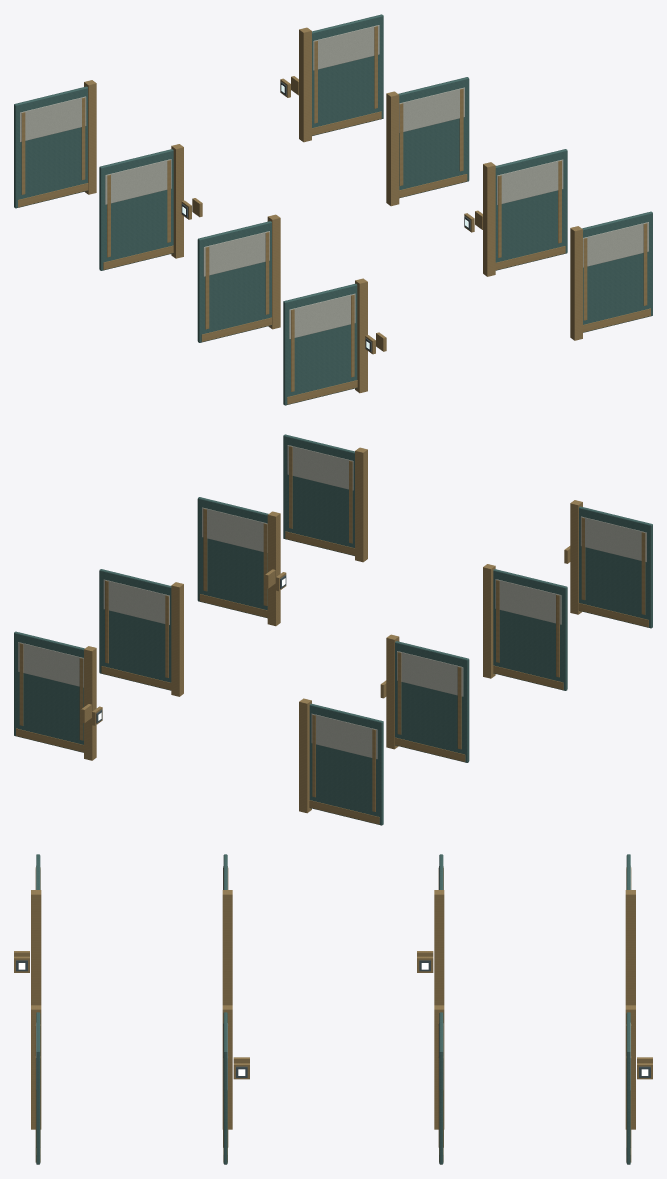
The model's file is G8_MEDICAL_BAY_r001_unbatched.glb.
3 views of the same model, one above another, from view 1: azimuth 30°, elevation 25°; view 2: azimuth 150°, elevation 25°; view 3: azimuth 270°, elevation 25° (orthographic). The views are drawn at different scales.
Visible parts, largest first — view 1: G8B_Surgery03_privacy_leaf_left, G8B_Surgery03_privacy_leaf_right, G8B_Surgery01_privacy_leaf_left, G8B_Surgery01_privacy_leaf_right, G8B_Surgery04_privacy_leaf_left, G8B_Surgery02_privacy_leaf_left, G8B_Surgery02_privacy_leaf_right, G8B_Surgery04_privacy_leaf_right, G8B_Surgery02_leaf_left_upper_field, G8B_Surgery03_leaf_right_upper_field, G8B_Surgery01_leaf_right_upper_field, G8B_Surgery03_leaf_left_upper_field (+20 smaller); view 2: G8B_Surgery01_privacy_leaf_right, G8B_Surgery01_privacy_leaf_left, G8B_Surgery03_privacy_leaf_right, G8B_Surgery03_privacy_leaf_left, G8B_Surgery02_privacy_leaf_right, G8B_Surgery04_privacy_leaf_right, G8B_Surgery04_privacy_leaf_left, G8B_Surgery02_privacy_leaf_left, G8B_Surgery01_leaf_left_upper_field, G8B_Surgery04_leaf_right_upper_field, G8B_Surgery01_leaf_right_upper_field, G8B_Surgery03_leaf_left_upper_field (+20 smaller); view 3: G8B_Surgery01_LeftReceiver, G8B_Surgery01_RightReceiver, G8B_Surgery03_LeftReceiver, G8B_Surgery03_RightReceiver, G8B_Surgery02_LeftReceiver, G8B_Surgery04_RightReceiver, G8B_Surgery02_RightReceiver, G8B_Surgery04_LeftReceiver, G8B_Surgery02_privacy_leaf_left, G8B_Surgery04_privacy_leaf_right, G8B_Surgery02_privacy_leaf_right, G8B_Surgery04_privacy_leaf_left.
Boxes of the visible parts, box(x1,y1,x2,y2) form: G8B_Surgery03_privacy_leaf_left: box(283, 283, 357, 405); G8B_Surgery03_privacy_leaf_right: box(197, 221, 271, 342); G8B_Surgery01_privacy_leaf_left: box(99, 149, 173, 270); G8B_Surgery01_privacy_leaf_right: box(14, 86, 87, 208); G8B_Surgery04_privacy_leaf_left: box(495, 149, 567, 270); G8B_Surgery02_privacy_leaf_left: box(312, 14, 383, 135); G8B_Surgery02_privacy_leaf_right: box(398, 77, 469, 198); G8B_Surgery04_privacy_leaf_right: box(582, 211, 652, 332); G8B_Surgery02_leaf_left_upper_field: box(313, 25, 379, 70); G8B_Surgery03_leaf_right_upper_field: box(203, 231, 269, 276); G8B_Surgery01_leaf_right_upper_field: box(20, 96, 86, 142); G8B_Surgery03_leaf_left_upper_field: box(289, 293, 355, 339); G8B_Surgery01_privacy_leaf_right: box(309, 703, 383, 825); G8B_Surgery01_privacy_leaf_left: box(395, 641, 469, 762); G8B_Surgery03_privacy_leaf_right: box(493, 569, 567, 690); G8B_Surgery03_privacy_leaf_left: box(579, 506, 652, 628); G8B_Surgery02_privacy_leaf_right: box(99, 569, 171, 690); G8B_Surgery04_privacy_leaf_right: box(283, 434, 354, 555); G8B_Surgery04_privacy_leaf_left: box(197, 497, 268, 618); G8B_Surgery02_privacy_leaf_left: box(14, 631, 84, 752); G8B_Surgery01_leaf_left_upper_field: box(397, 651, 463, 696); G8B_Surgery04_leaf_right_upper_field: box(287, 445, 353, 490); G8B_Surgery01_leaf_right_upper_field: box(311, 713, 377, 759); G8B_Surgery03_leaf_left_upper_field: box(580, 516, 646, 562); G8B_Surgery01_LeftReceiver: box(434, 890, 444, 1005); G8B_Surgery01_RightReceiver: box(625, 890, 635, 1005); G8B_Surgery03_LeftReceiver: box(31, 890, 41, 1005); G8B_Surgery03_RightReceiver: box(222, 890, 232, 1005); G8B_Surgery02_LeftReceiver: box(625, 1005, 635, 1129); G8B_Surgery04_RightReceiver: box(31, 1005, 41, 1129); G8B_Surgery02_RightReceiver: box(434, 1005, 444, 1129); G8B_Surgery04_LeftReceiver: box(222, 1005, 232, 1129); G8B_Surgery02_privacy_leaf_left: box(626, 1012, 630, 1164); G8B_Surgery04_privacy_leaf_right: box(36, 1012, 40, 1164); G8B_Surgery02_privacy_leaf_right: box(439, 1012, 443, 1164); G8B_Surgery04_privacy_leaf_left: box(223, 1012, 227, 1164).
Size of the model in its own units: 9.26 by 2.63 by 12.68.
15 materials, 14 textured.
